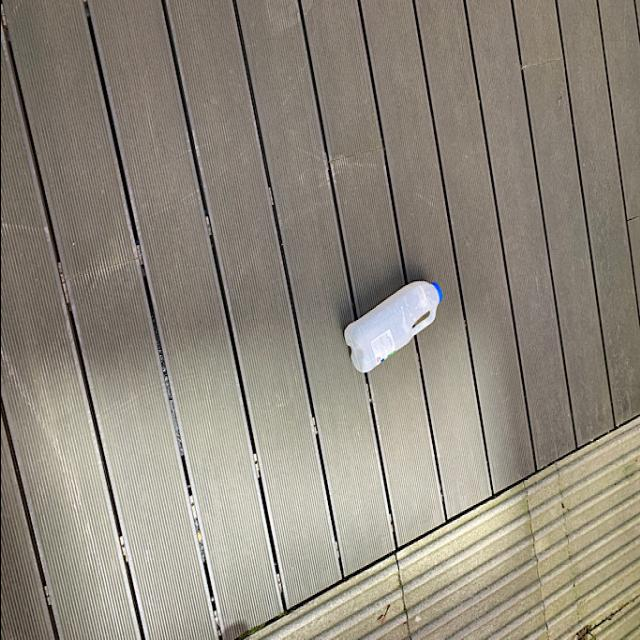HDPEM: (342, 278, 442, 378)
